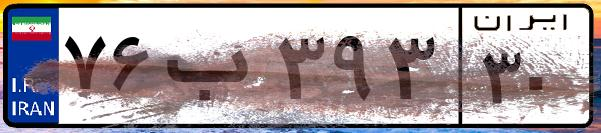0: (525, 38, 570, 115)
3: (270, 28, 330, 110), (385, 28, 445, 110), (475, 38, 525, 113)
6: (110, 28, 158, 98)
7: (57, 26, 110, 100)
9: (330, 28, 385, 110)
ب: (158, 20, 270, 120)
